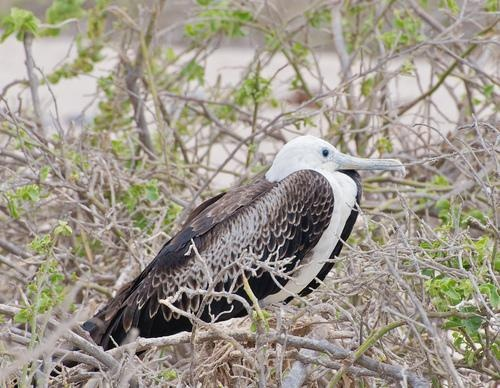bird: (82, 137, 406, 344)
